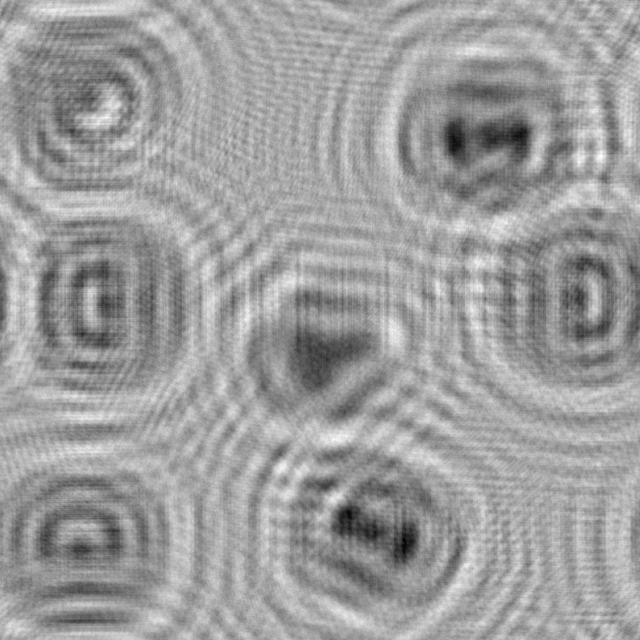A: (201, 194, 461, 466)
B: (362, 0, 640, 244), (224, 415, 509, 640)
C: (0, 0, 228, 221)
D: (0, 164, 257, 458), (444, 164, 640, 441), (0, 421, 227, 640)
